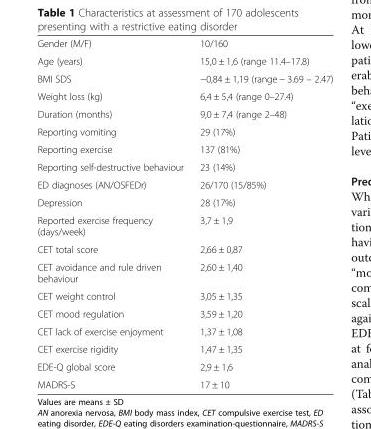table: (36, 37, 332, 389)
table column: (36, 37, 191, 389), (191, 37, 332, 389)
table row: (36, 210, 332, 240), (36, 257, 332, 286), (36, 51, 332, 69), (36, 69, 332, 87), (36, 104, 332, 122), (36, 122, 332, 140), (36, 157, 332, 175), (36, 175, 332, 193), (36, 286, 332, 304), (36, 304, 332, 322), (36, 339, 332, 357), (36, 357, 332, 375), (36, 87, 332, 104), (36, 140, 332, 157), (36, 193, 332, 210), (36, 240, 332, 257), (36, 322, 332, 339), (36, 37, 332, 51), (36, 375, 332, 389)
